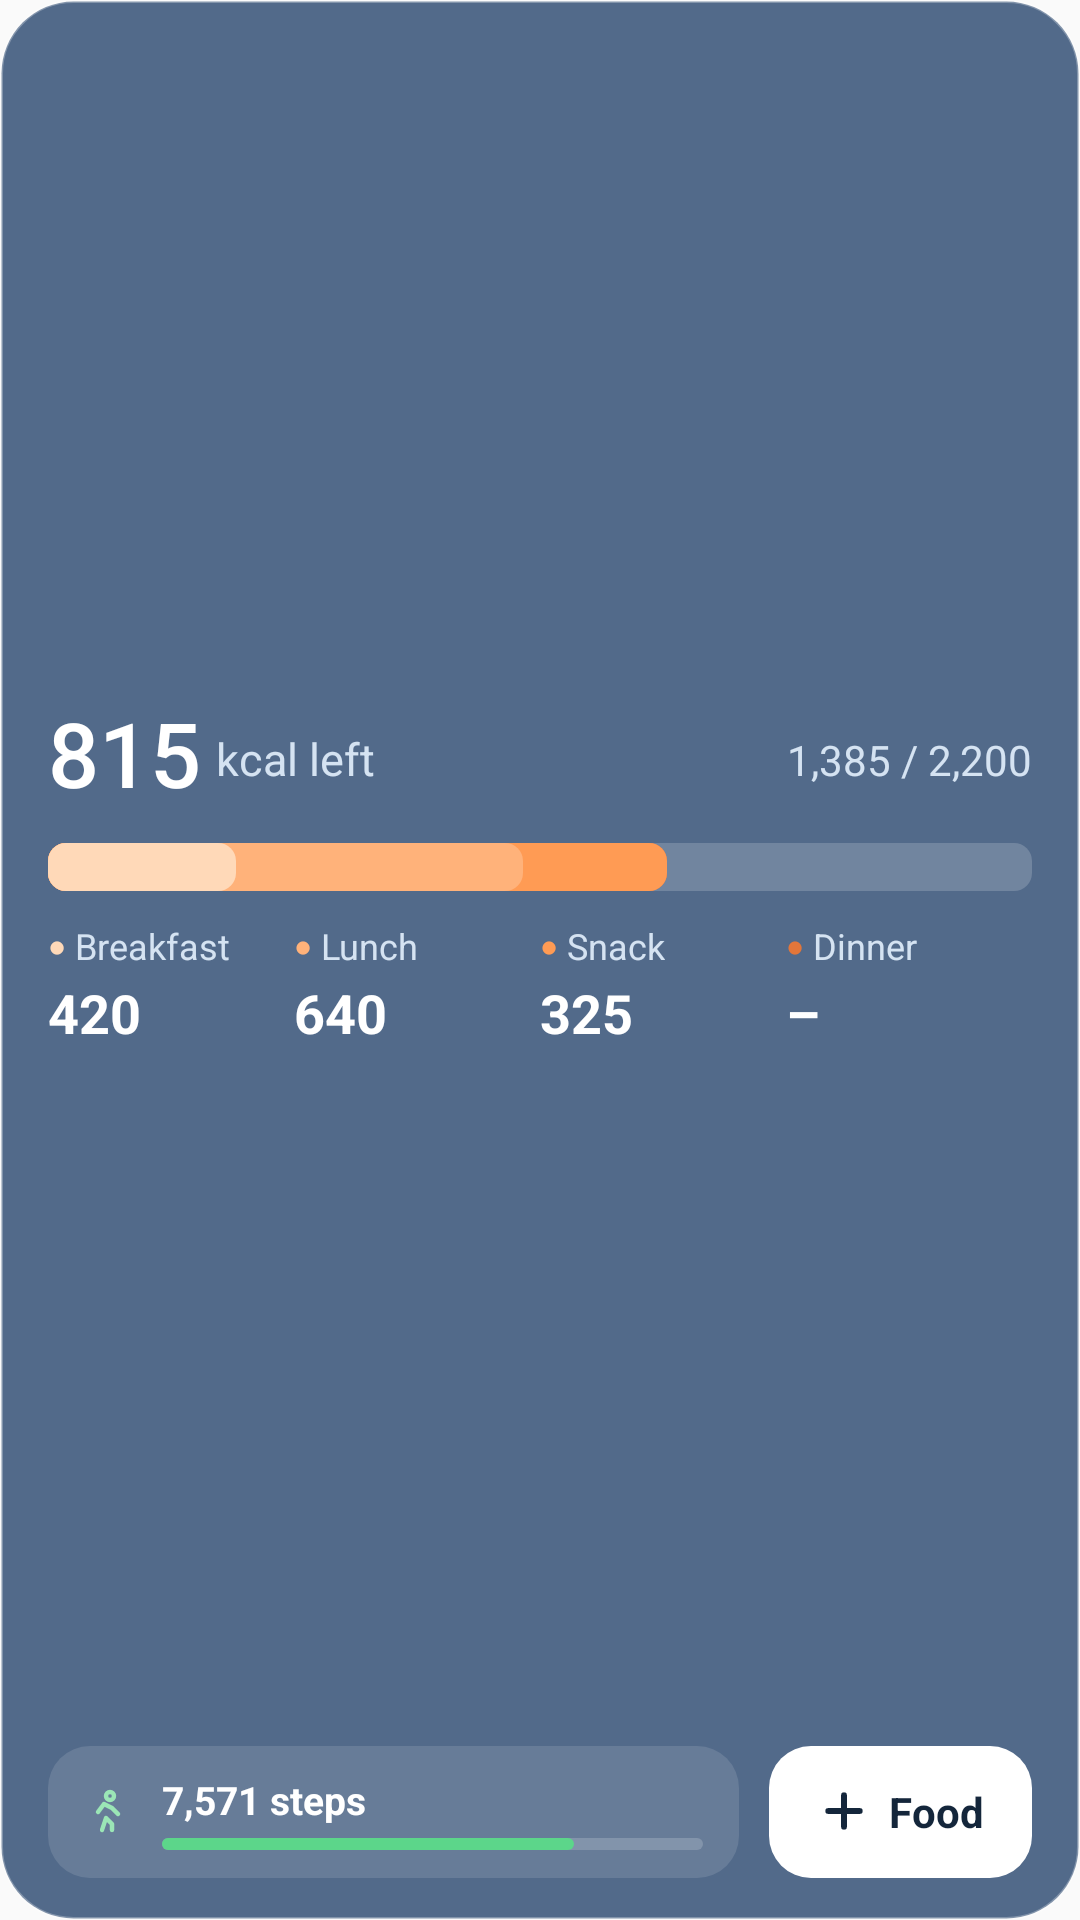

Icons on this 1080 × 1920 Android screen, each with the point to tap as (x=x, y=y):
walk: (x=108, y=1811)
